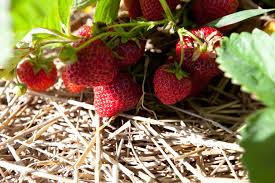ripe: (173, 25, 228, 87), (87, 71, 144, 117), (69, 39, 117, 85), (152, 60, 193, 106), (17, 55, 58, 92), (106, 33, 144, 65), (59, 61, 91, 97), (196, 7, 241, 21), (139, 7, 170, 25)
unripe: (57, 45, 79, 63)
